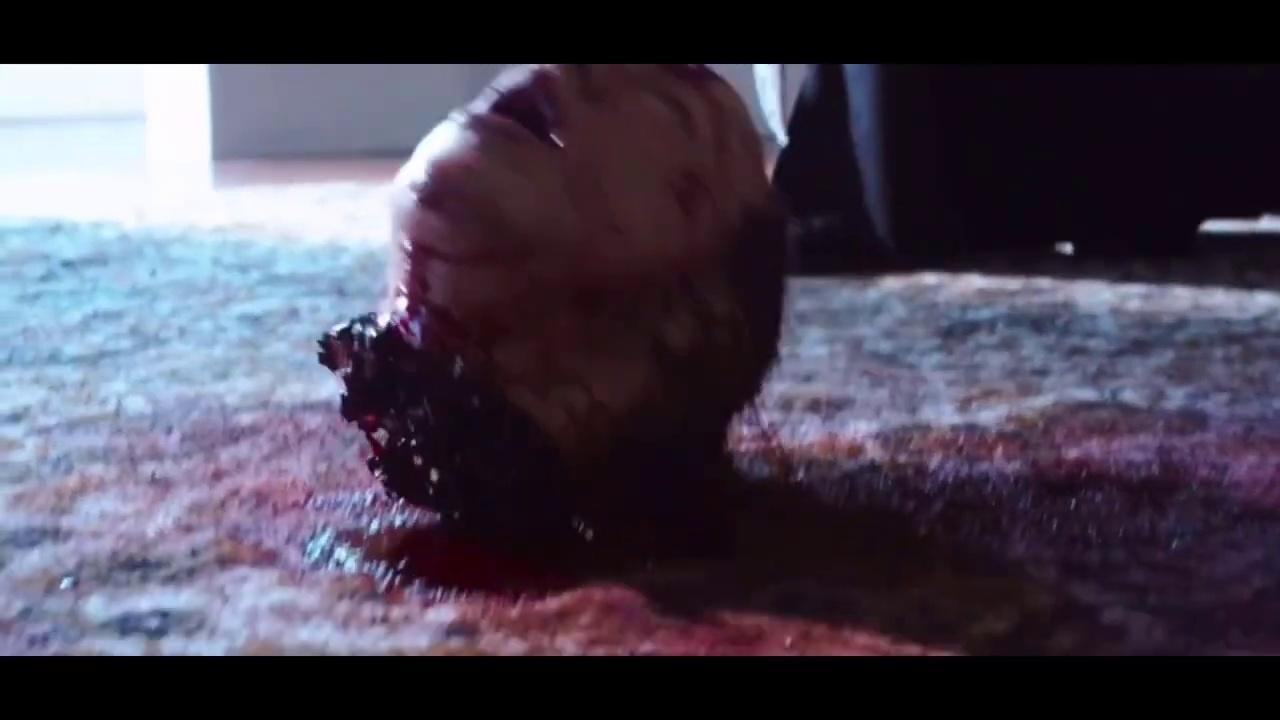Fire: (254, 238, 1280, 658)
